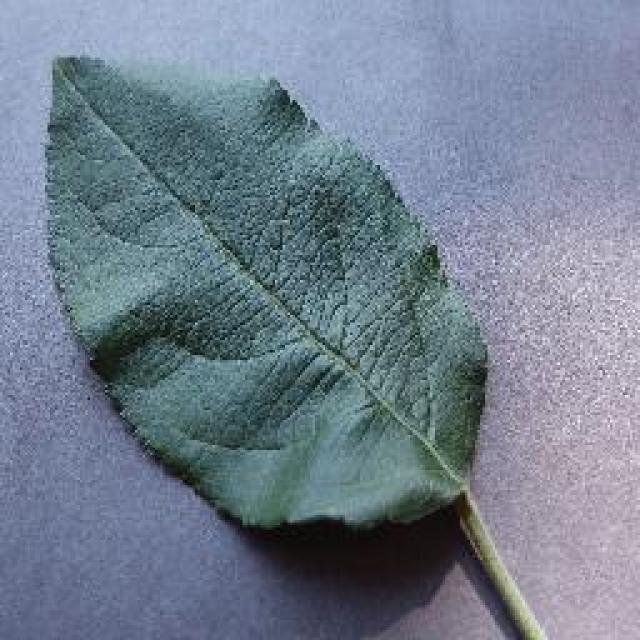Apple___healthy: (38, 53, 490, 532)
